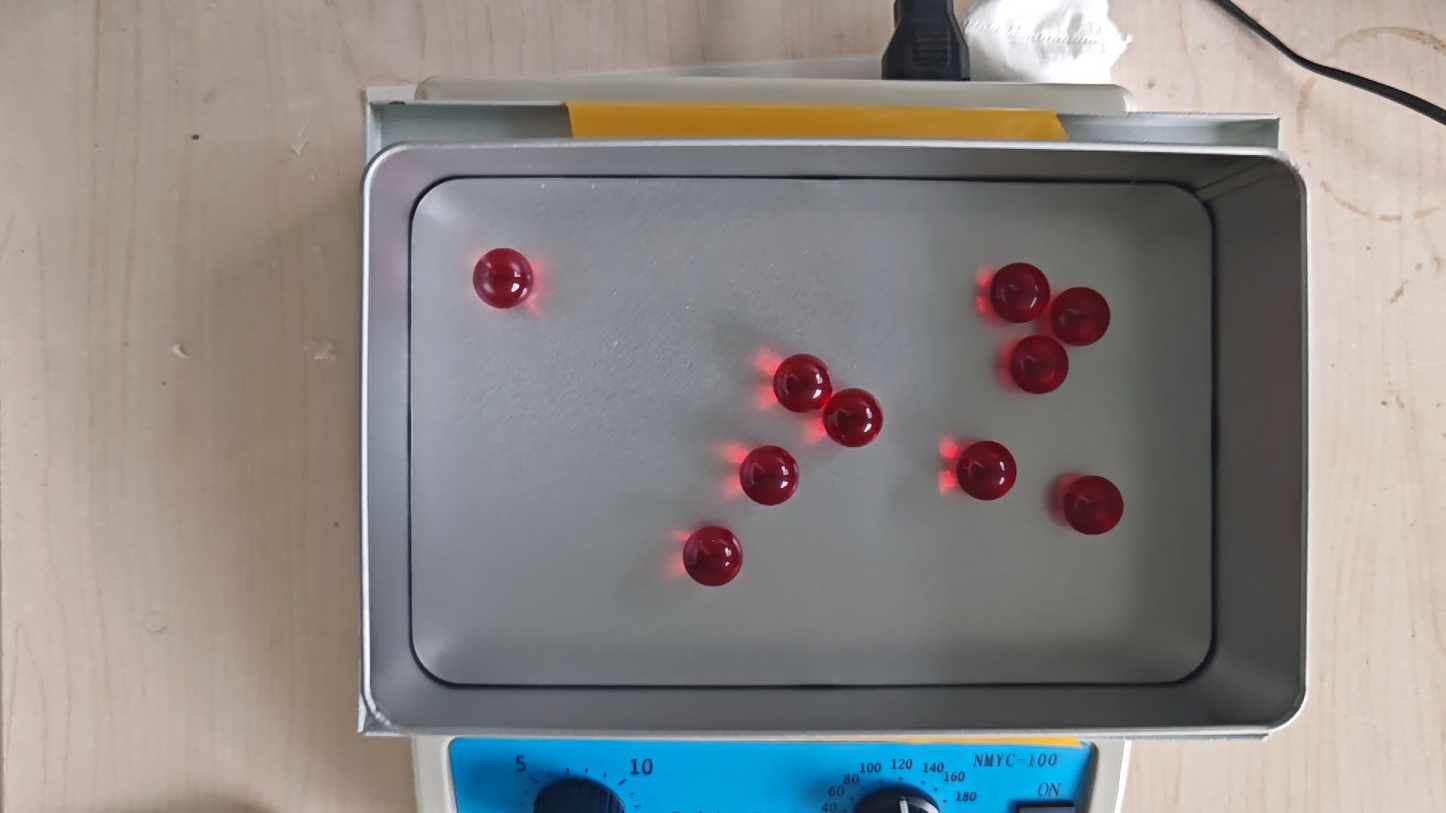ball: (472, 247, 533, 310), (956, 439, 1017, 502), (740, 444, 800, 507), (1063, 475, 1124, 536), (683, 525, 743, 587), (991, 261, 1049, 324), (1051, 286, 1111, 346), (1010, 335, 1069, 395), (825, 388, 884, 448), (774, 353, 831, 414)
container: (409, 177, 1214, 687)
